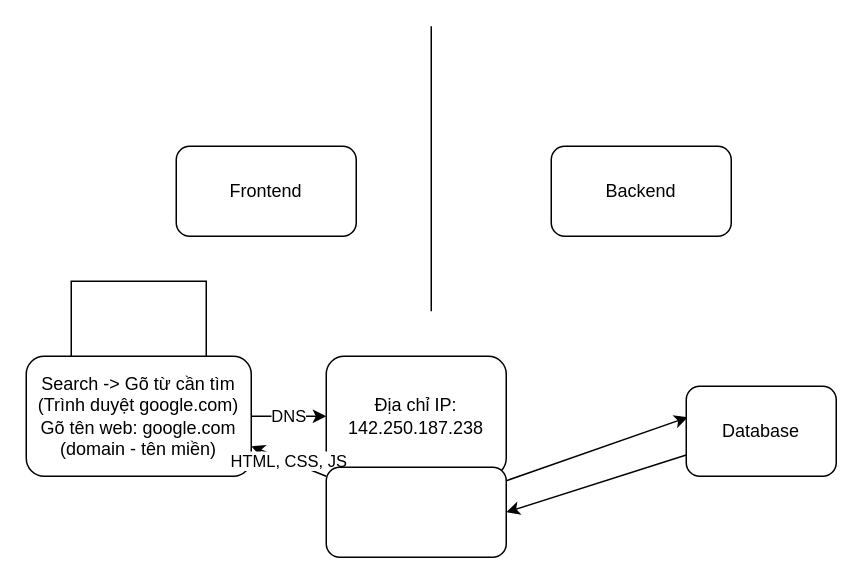
Image size: 863x584. Some labels were removed from this diagram. Each missing label, with the box of its shape:
Browser (Trình duyệt): (70, 280, 206, 371)
Server (Máy chủ): (325, 466, 506, 557)
